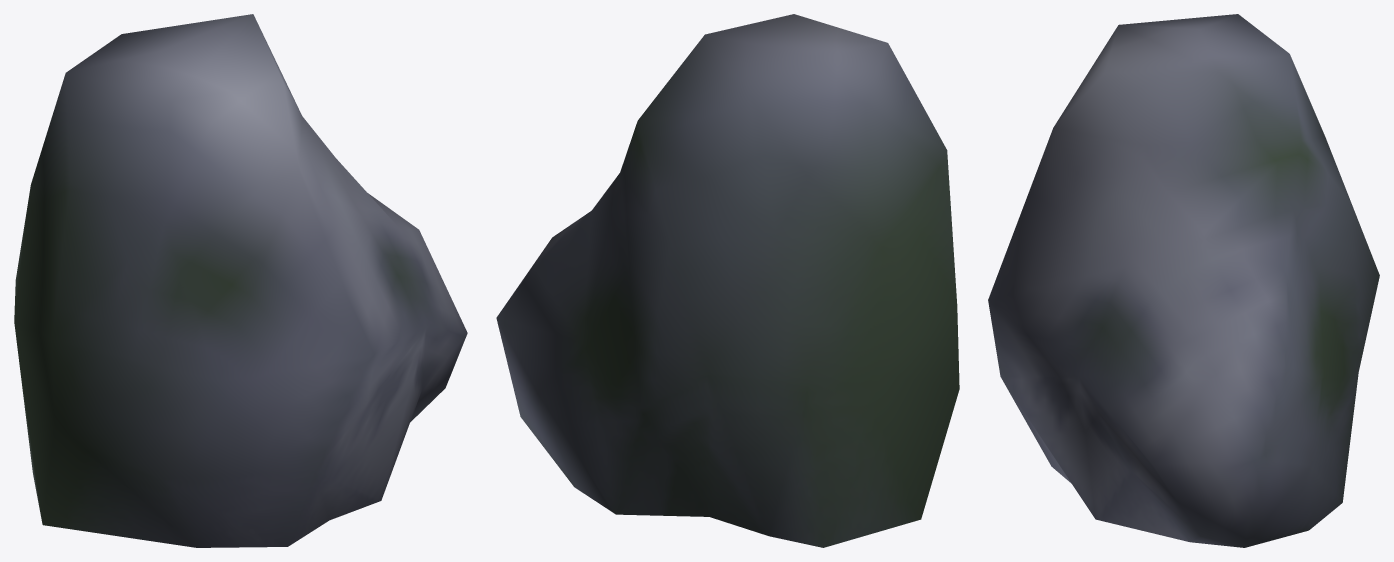
File: rock3.fbx
3 renders of one model, left to right at view 1: azimuth 30°, elevation 25°; view 2: azimuth 150°, elevation 25°; view 3: azimuth 270°, elevation 25°, orthographic. The views are drawn at different scales.
Visible parts, largest first — view 1: rock.003; view 2: rock.003; view 3: rock.003.
Part boxes in pixels (x1,y1,x2,y2): rock.003: (14, 14, 467, 547); rock.003: (496, 14, 959, 547); rock.003: (988, 14, 1379, 547).
Bounding box in the file's own units: 0.1976 × 0.2014 × 0.1705.
